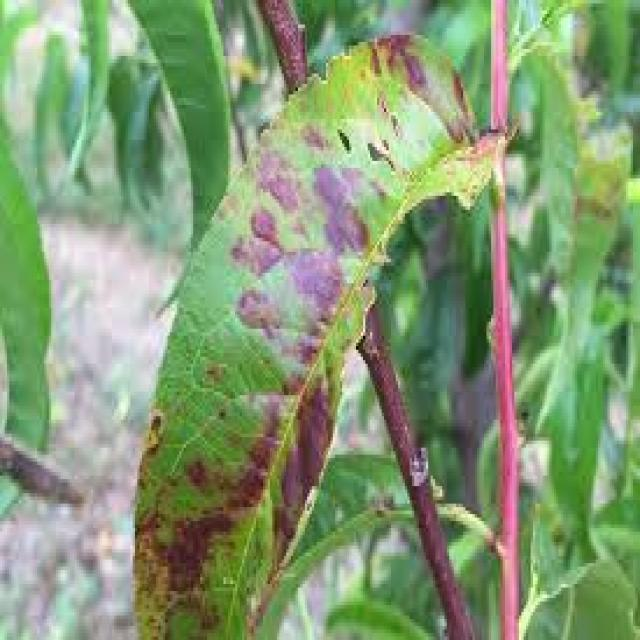black-spot: (225, 146, 420, 567)
